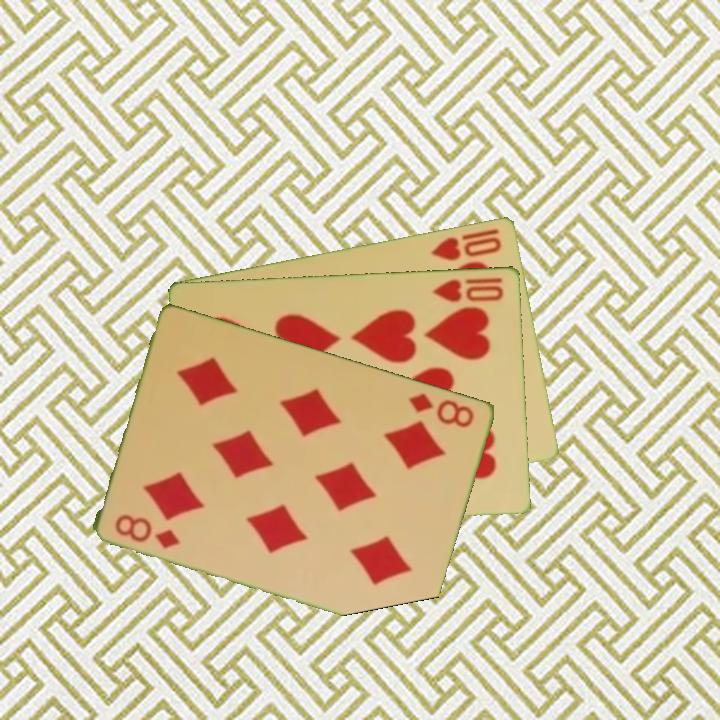10h: (430, 273, 506, 305), (427, 232, 505, 263)
8d: (112, 510, 184, 552), (405, 389, 478, 430)
